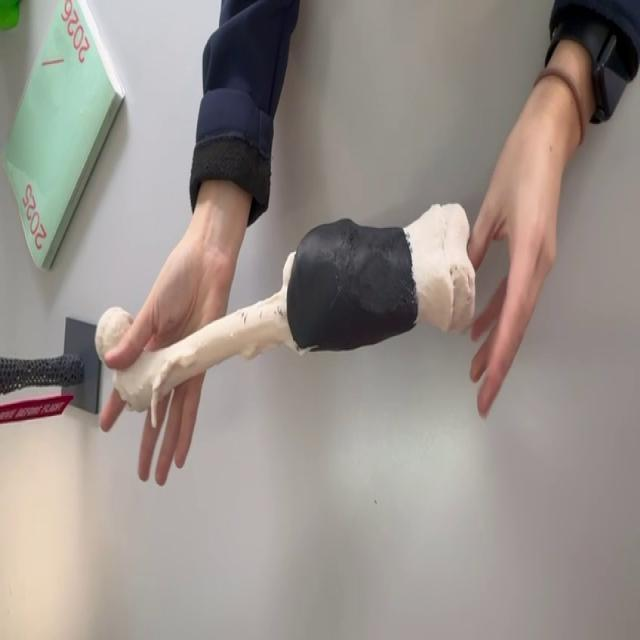bones: (114, 204, 475, 426)
